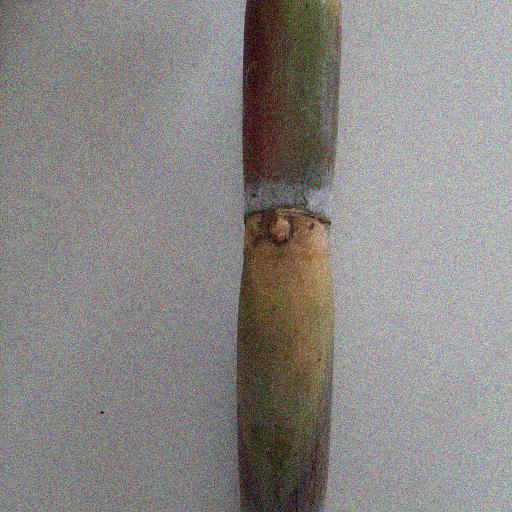Bud: (270, 212, 292, 246)
